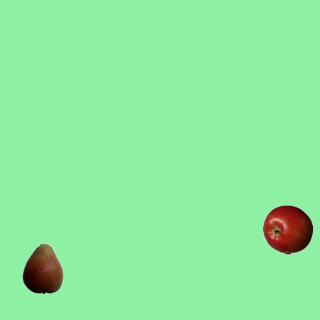Apple Braeburn: (262, 204, 312, 254)
Pear Forelle: (17, 243, 67, 293)
